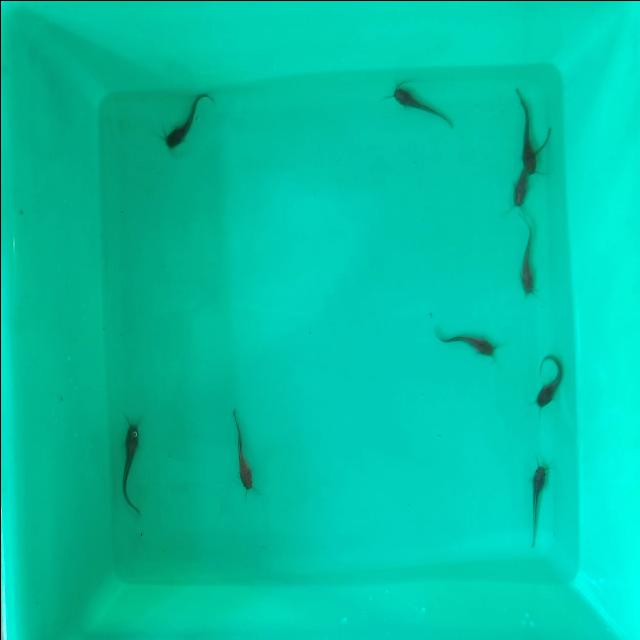lele: (392, 84, 451, 124), (162, 95, 202, 153), (120, 420, 142, 514), (438, 329, 500, 361), (229, 412, 254, 489), (534, 350, 562, 410), (516, 86, 536, 168), (530, 465, 548, 545), (519, 217, 536, 297), (509, 164, 532, 210)
